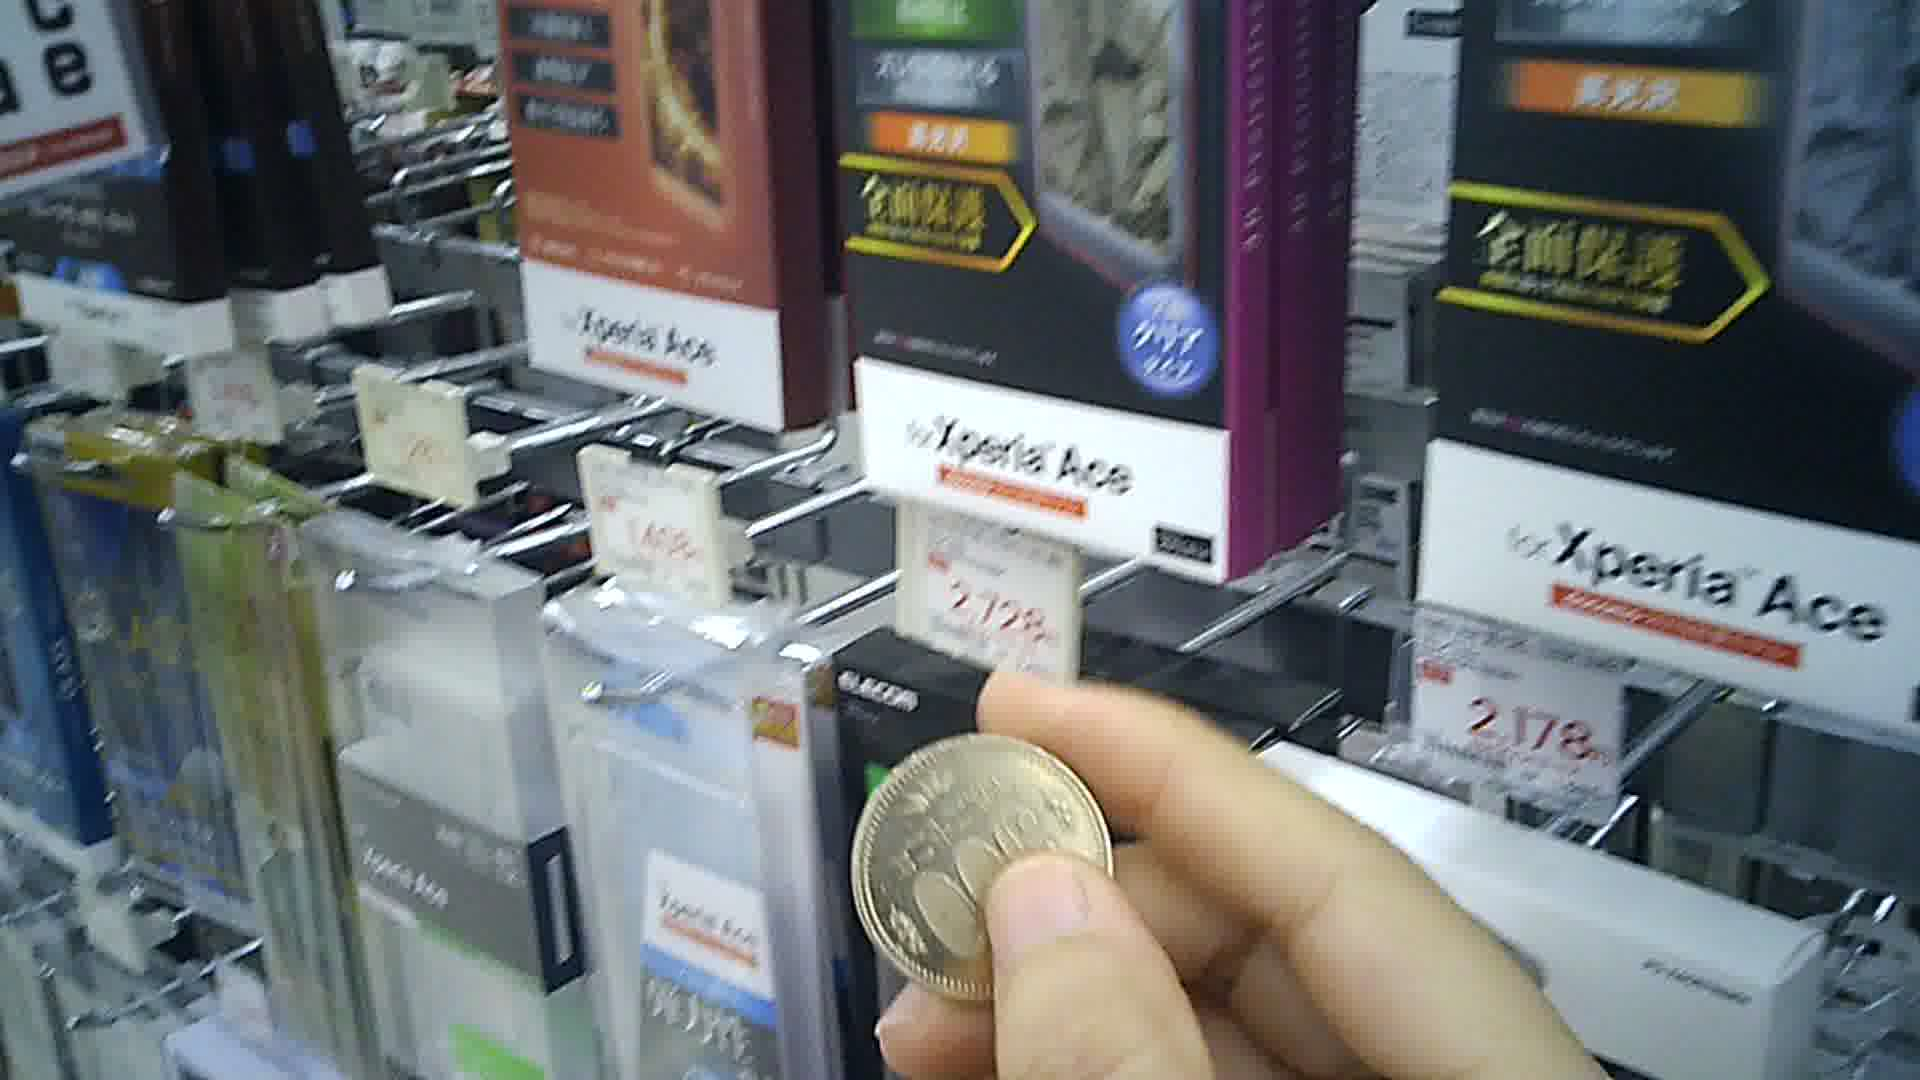500 Yen: (841, 727, 1114, 1011)
